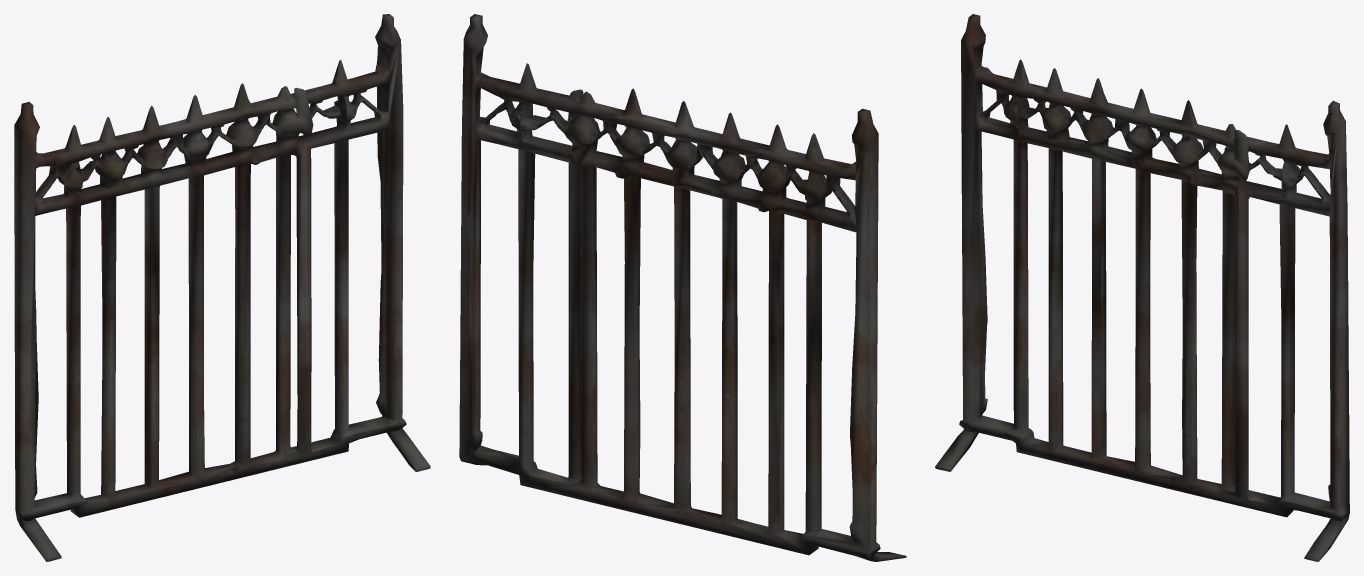
Rendered from simple-iron-portcullis-v001.glb.
The picture shows the model from 3 angles, left to right: view 1: azimuth 30°, elevation 25°; view 2: azimuth 150°, elevation 25°; view 3: azimuth 330°, elevation 25°; orthographic projection. The views are drawn at different scales.
Parts seen in each view (by area): view 1: simple-iron-portcullis; view 2: simple-iron-portcullis; view 3: simple-iron-portcullis.
Part boxes in pixels (x1,y1,x2,y2): simple-iron-portcullis: [14, 14, 430, 561]; simple-iron-portcullis: [459, 14, 906, 561]; simple-iron-portcullis: [935, 14, 1349, 561].
Bounding box in the file's own units: 2.47 × 2.66 × 0.4056.
1 material, 1 textured.
